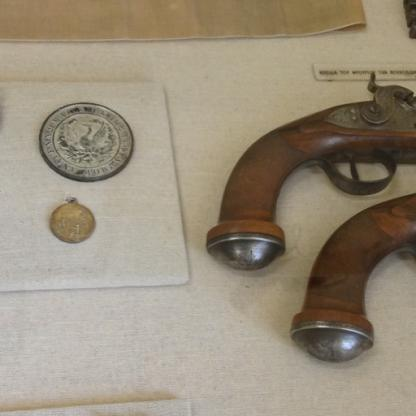gun: (206, 70, 416, 270), (292, 150, 415, 365)
